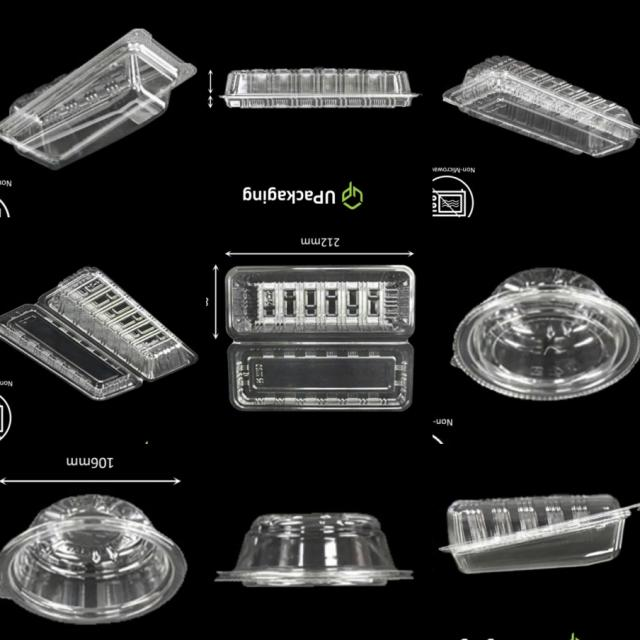plastik: (0, 29, 196, 170), (225, 266, 415, 410), (0, 268, 197, 400), (452, 268, 640, 401), (0, 495, 187, 624), (443, 56, 640, 157), (440, 494, 640, 574), (216, 512, 412, 587), (222, 68, 418, 108)
